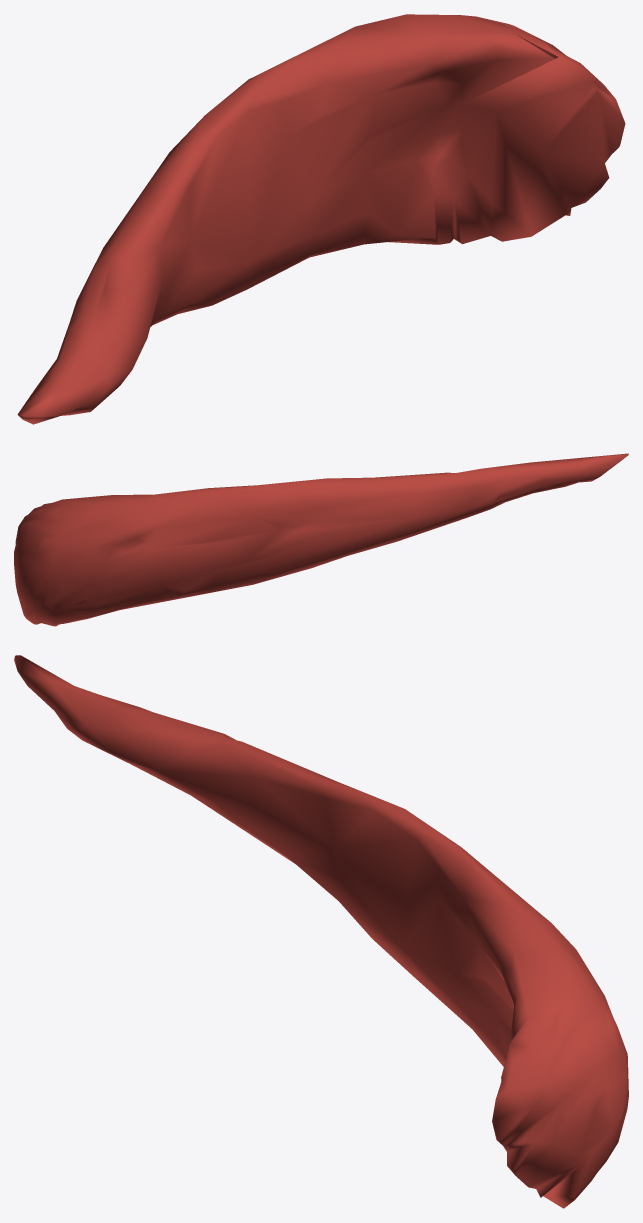
The model's file is musculos-inferior-gemellus-muscle-r.glb.
3 renders of one model, top to bottom at view 1: azimuth 30°, elevation 25°; view 2: azimuth 150°, elevation 25°; view 3: azimuth 270°, elevation 25°, orthographic. The views are drawn at different scales.
Visible parts, largest first — view 1: Inferior gemellus muscle.r; view 2: Inferior gemellus muscle.r; view 3: Inferior gemellus muscle.r.
Part boxes in pixels (box(x1,y1,x2,y2)): Inferior gemellus muscle.r: box(17, 14, 625, 424); Inferior gemellus muscle.r: box(14, 453, 628, 626); Inferior gemellus muscle.r: box(14, 655, 628, 1208).
Size of the model in its own units: 0.0728 by 0.0232 by 0.0543.
